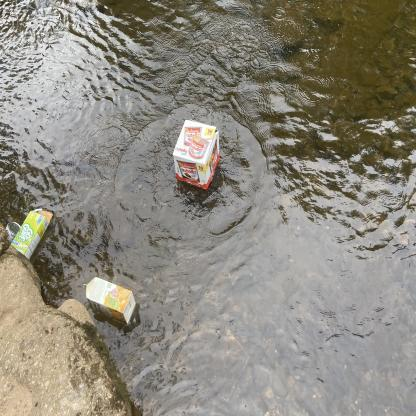trash: (172, 113, 222, 192), (7, 198, 58, 268), (78, 272, 138, 328), (3, 218, 22, 249)
